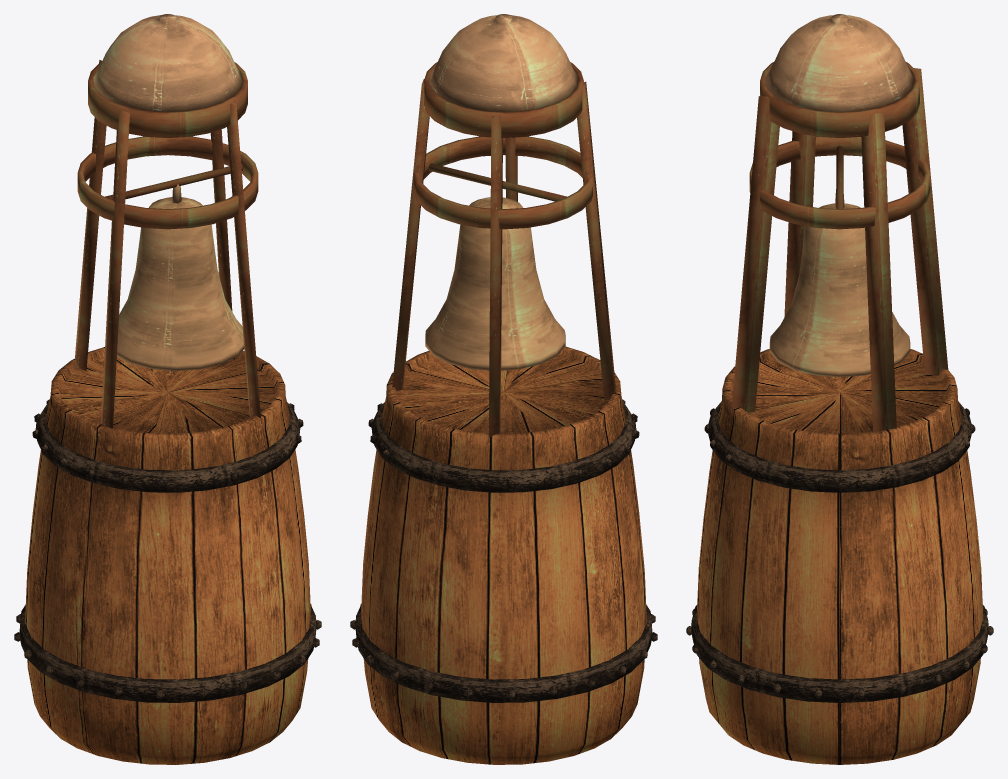
File: mm8_deco_bell_buoy.glb
The picture shows the model from 3 angles, left to right: view 1: azimuth 30°, elevation 25°; view 2: azimuth 150°, elevation 25°; view 3: azimuth 270°, elevation 25°; orthographic projection.
Visible parts, largest first — view 1: Buoy; view 2: Buoy; view 3: Buoy.
Part boxes in pixels (x1,y1,x2,y2): Buoy: (14,14,321,764); Buoy: (350,14,657,764); Buoy: (686,14,993,764).
Size of the model in its own units: 1.14 by 2.86 by 1.14.
5 materials, 5 textured.
